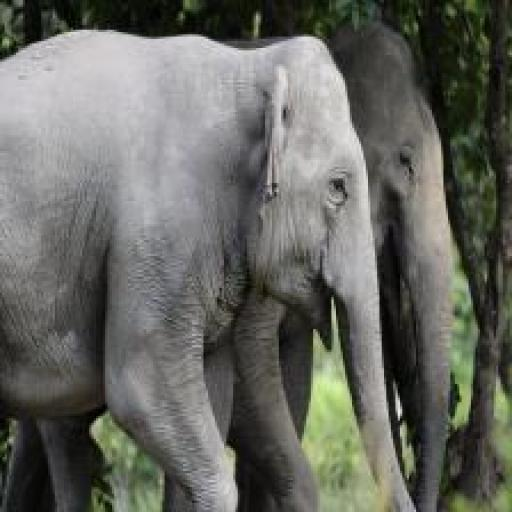Elephant: (0, 20, 455, 512)
